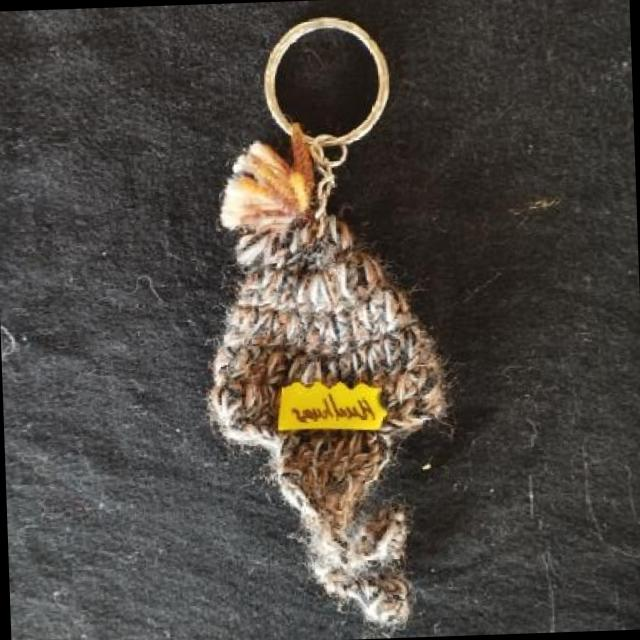Llavero: (195, 115, 460, 636)
